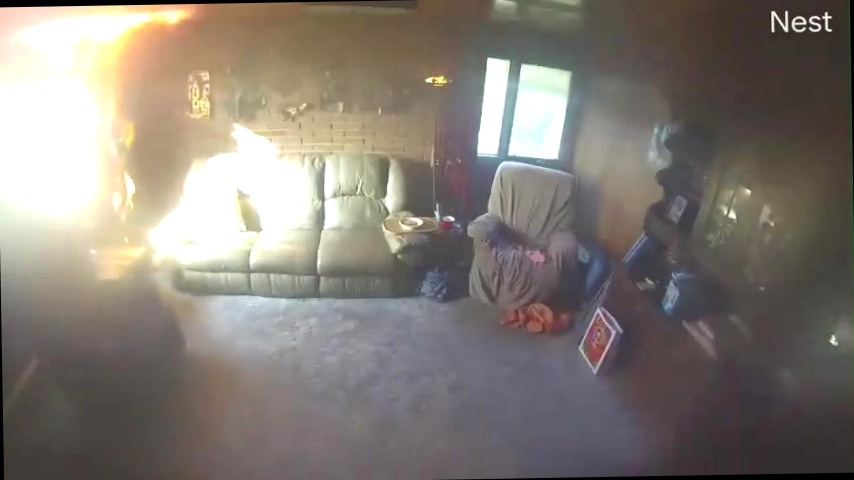fire: (0, 6, 199, 221)
